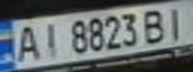2: (103, 11, 127, 52)
3: (118, 10, 145, 48)
8: (66, 16, 90, 55), (84, 15, 106, 53)
A: (6, 21, 45, 64)
B: (139, 6, 172, 44)
I: (36, 19, 66, 60), (160, 3, 193, 39)
